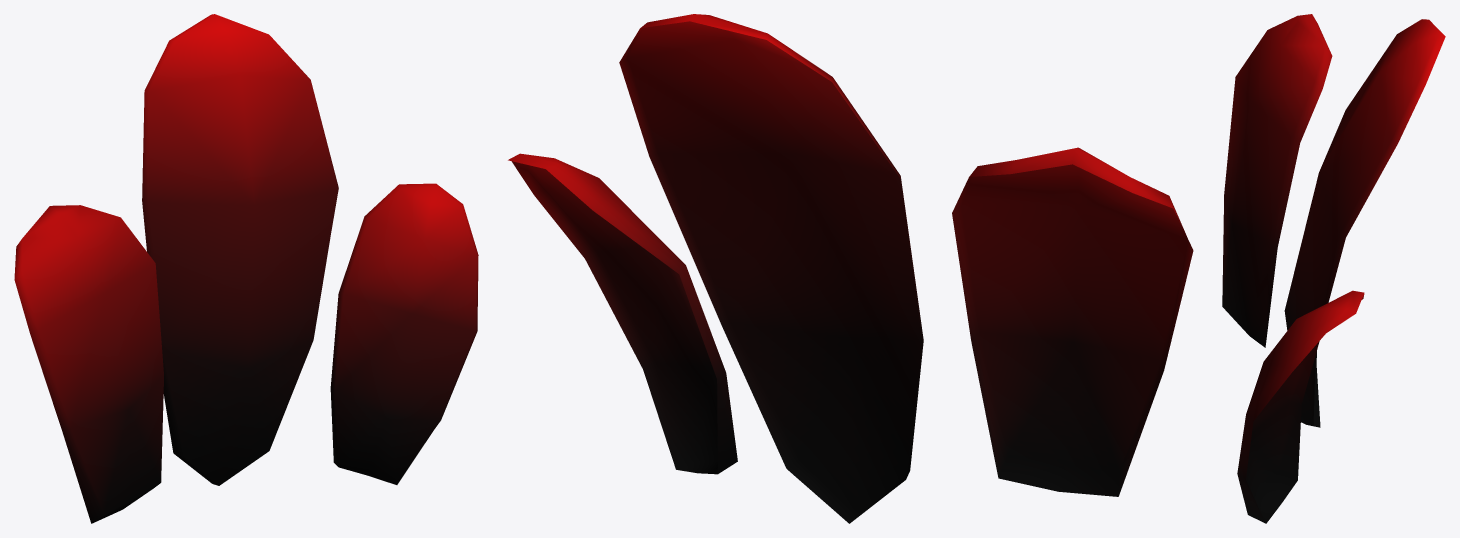
File: CastleExterior_Flower_03.fbx
The picture shows the model from 3 angles, left to right: view 1: azimuth 30°, elevation 25°; view 2: azimuth 150°, elevation 25°; view 3: azimuth 270°, elevation 25°; orthographic projection. The views are drawn at different scales.
Visible parts, largest first — view 1: CastleExterior_Flower_03; view 2: CastleExterior_Flower_03; view 3: CastleExterior_Flower_03.
Boxes of the visible parts, x1,y1,x2,y2 form: CastleExterior_Flower_03: [14, 14, 478, 523]; CastleExterior_Flower_03: [508, 14, 1193, 523]; CastleExterior_Flower_03: [1222, 14, 1445, 523].
Bounding box in the file's own units: 372 × 322 × 148.
